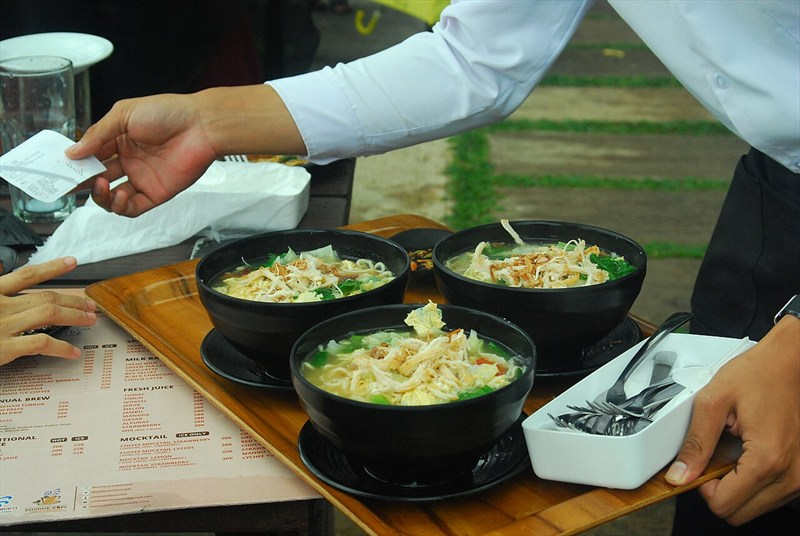Soto Ayam: (17, 26, 708, 470)
